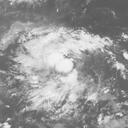cyclone: (28, 29, 88, 96)
